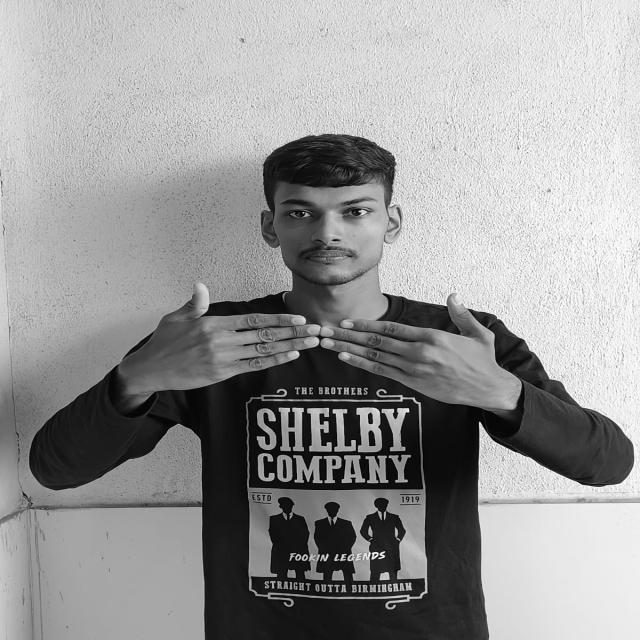Night: (142, 282, 503, 388)
